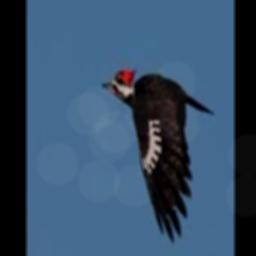Woodpecker: (103, 68, 214, 241)
